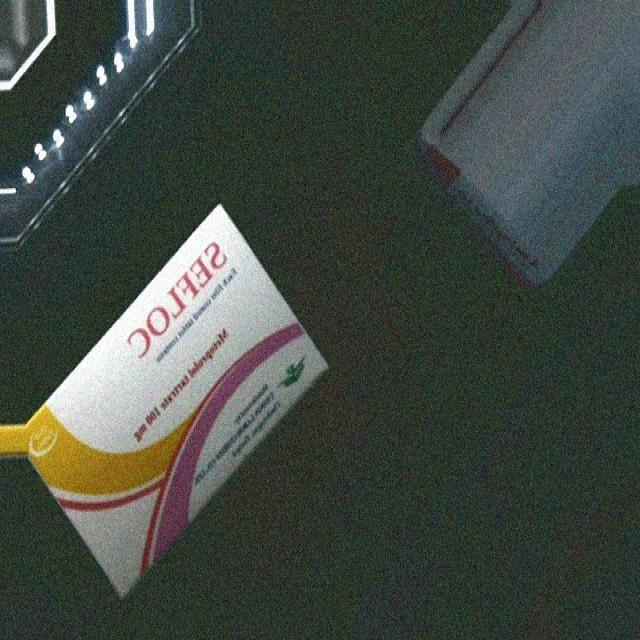medicine_name_detection: (3, 205, 330, 599)
